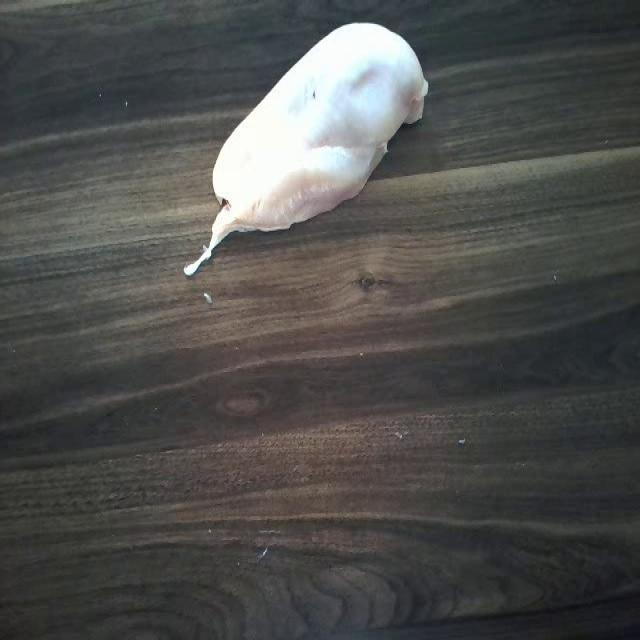breast: (212, 15, 424, 266)
